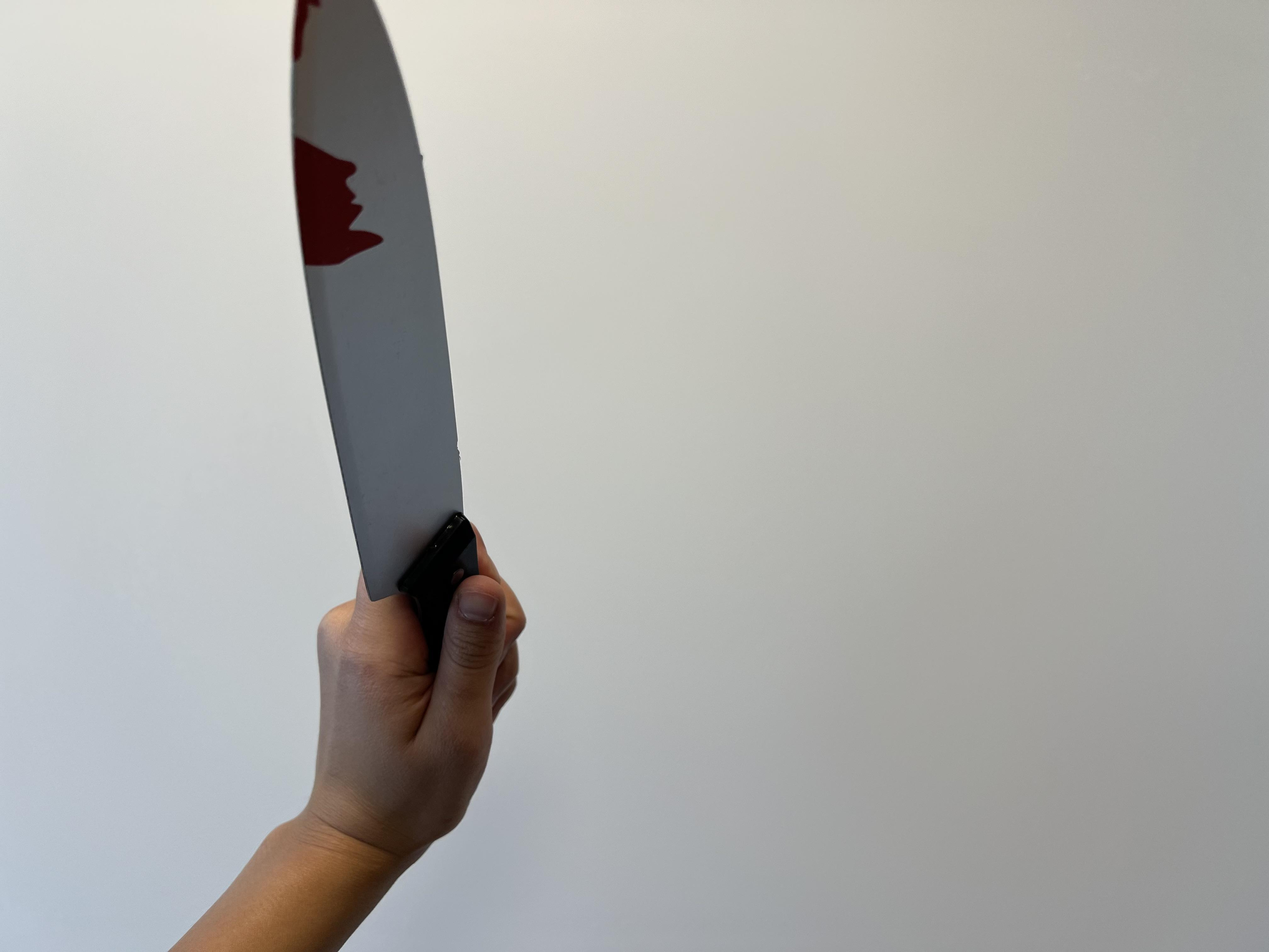Knife: (165, 520, 526, 952), (287, 1, 479, 581), (311, 521, 534, 834)
